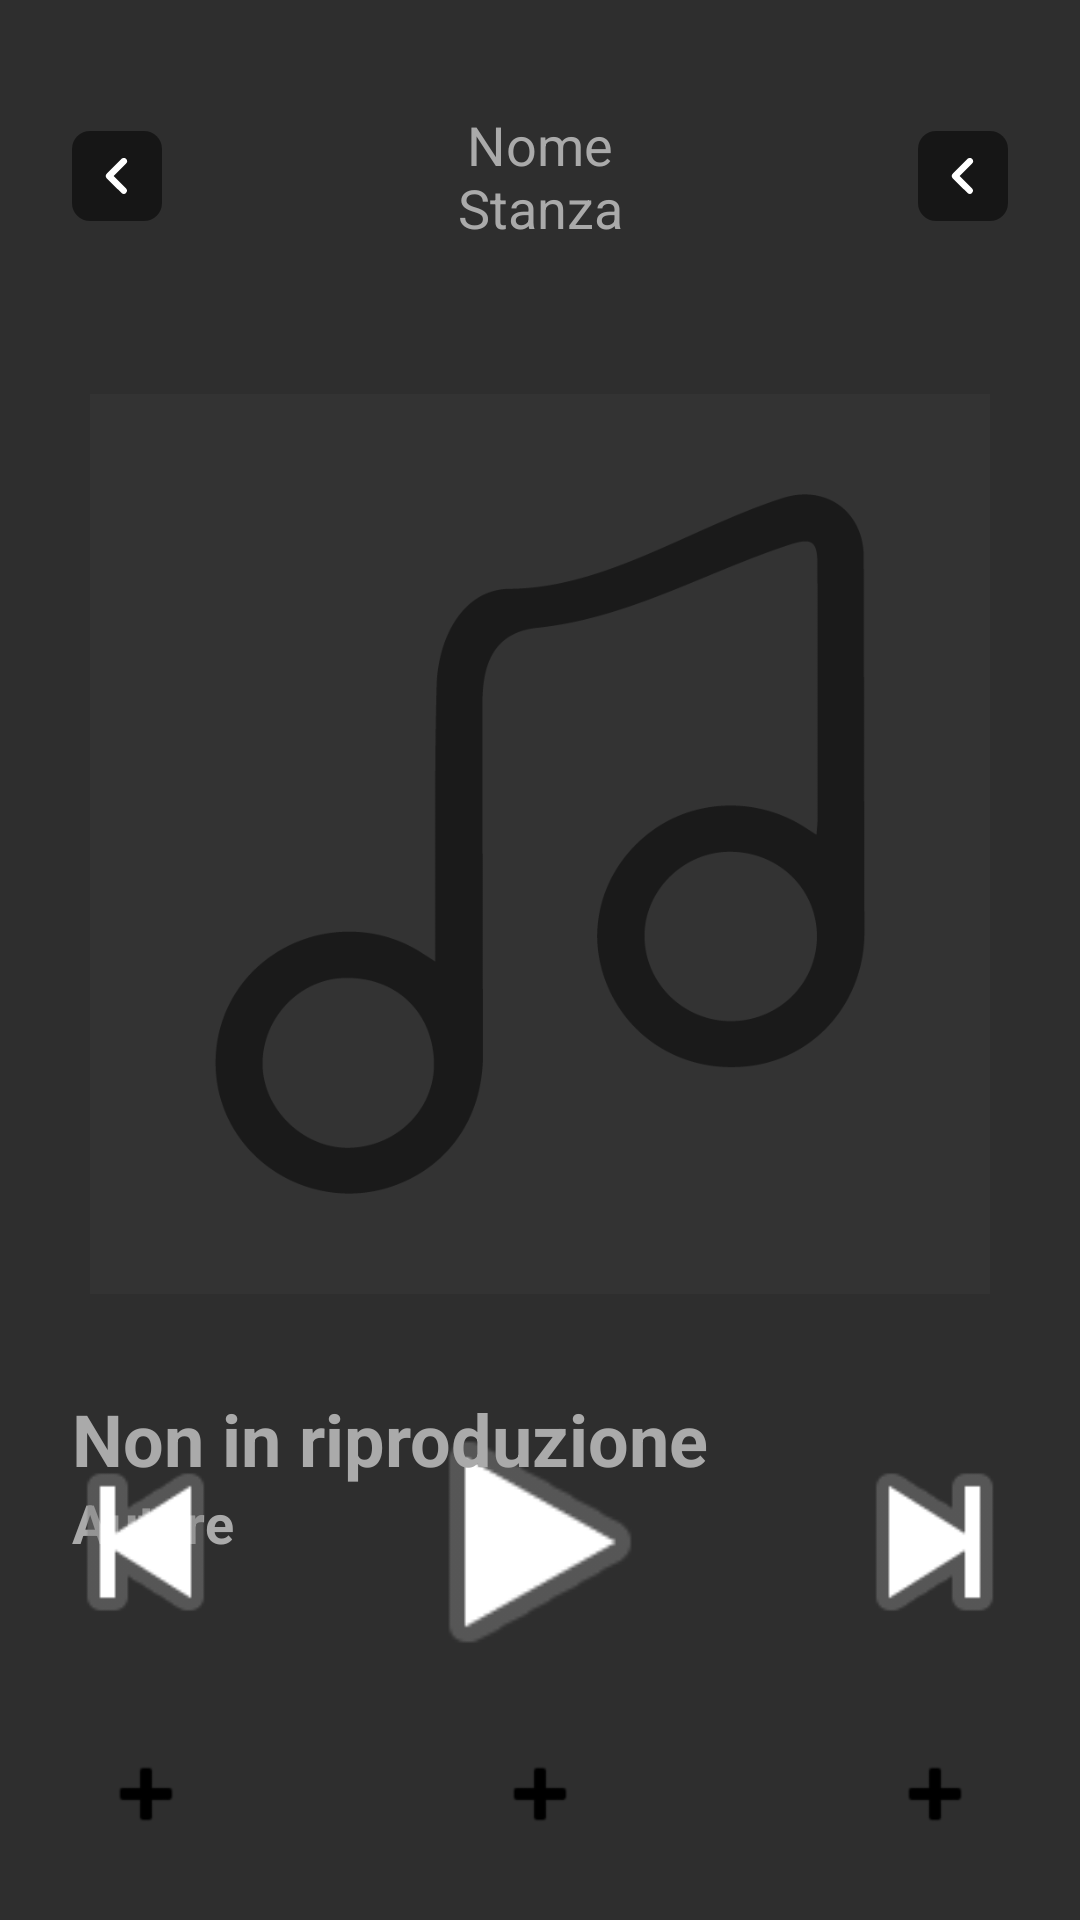

Icon click points for this 1080 × 1920 phone screenshot, format (x,y):
add: (146,1794), (540,1794), (935,1794)
chevronleft: (117,176), (963,176)
next: (934,1542)
